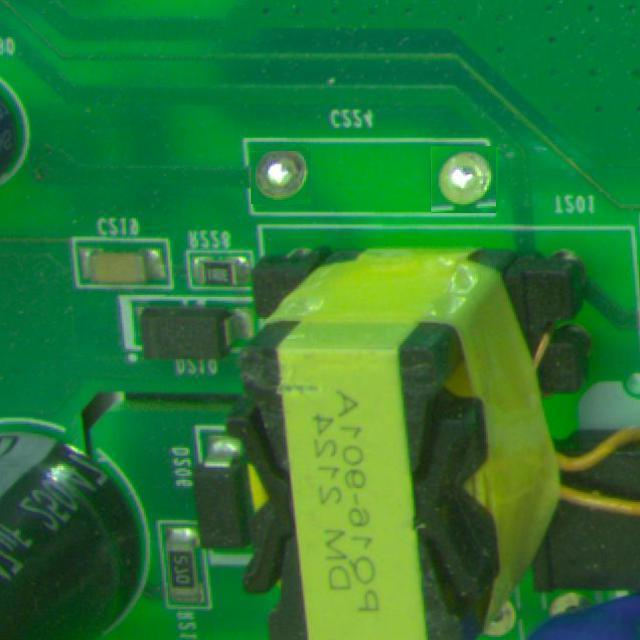lack_of_part: (431, 146, 497, 213), (252, 148, 310, 206)
